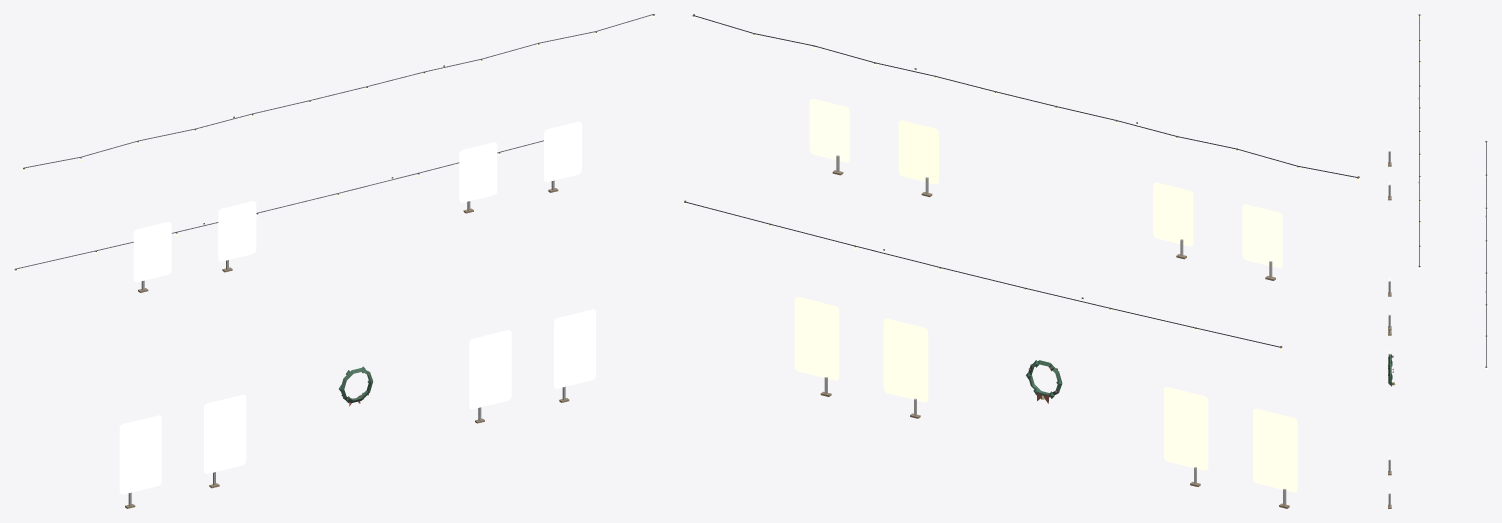
Rendered from house_dress_manor2_low.glb.
The picture shows the model from 3 angles, left to right: view 1: azimuth 30°, elevation 25°; view 2: azimuth 150°, elevation 25°; view 3: azimuth 270°, elevation 25°; orthographic projection. The views are drawn at different scales.
Size of the model in its own units: 10.49 by 5.51 by 1.75.
